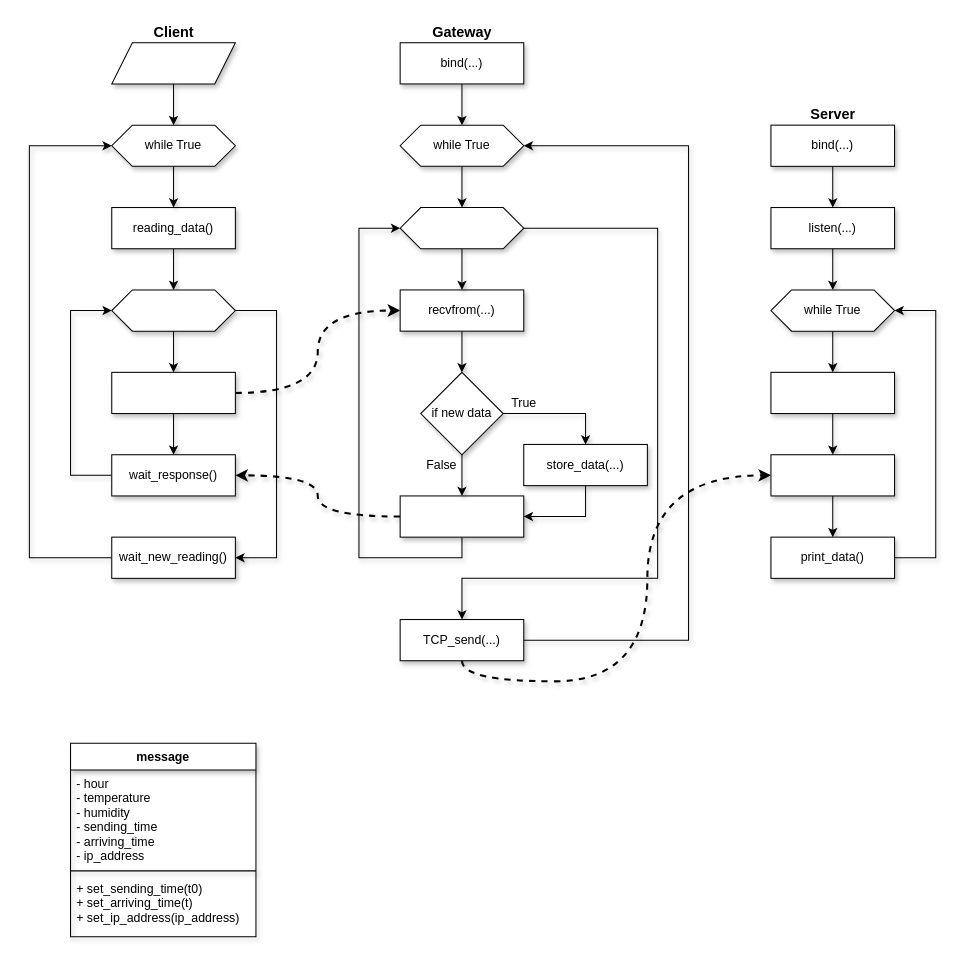
Image size: 968x962. Some labels were removed from this diagram. The centre of each missing label's shape, as x and y in pixels:
"accept(...)" belongs at pixel 833 394.
"recv(...)" belongs at pixel 833 476.
"send_response(...)" belongs at pixel 462 517.
"set Client ID" belongs at pixel 174 64.
"UDP_send(...)" belongs at pixel 174 394.
"while not 4 Clients" belongs at pixel 462 229.
"while not OK" belongs at pixel 174 311.
